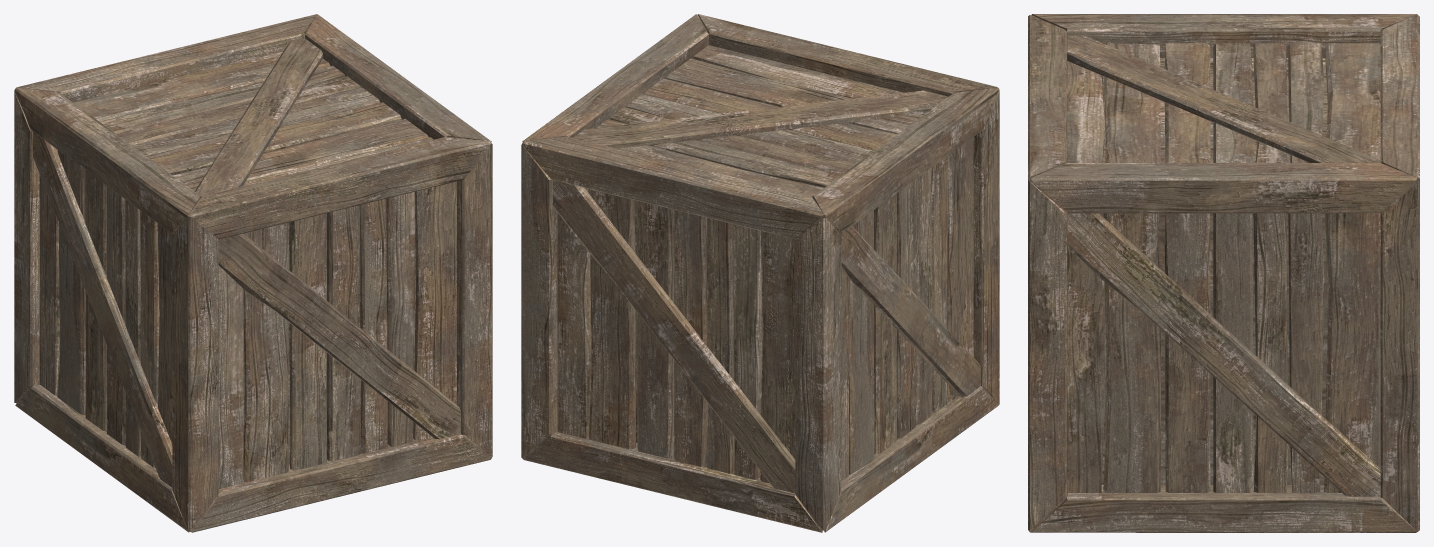
The model's file is SM_Crate_B_01.fbx.
3 renders of one model, left to right at view 1: azimuth 30°, elevation 25°; view 2: azimuth 150°, elevation 25°; view 3: azimuth 270°, elevation 25°, orthographic. The views are drawn at different scales.
Parts seen in each view (by area): view 1: SM_Crate_B_01_LOD0; view 2: SM_Crate_B_01_LOD0; view 3: SM_Crate_B_01_LOD0.
Boxes of the visible parts, <box> form: SM_Crate_B_01_LOD0: <box>14,14,492,532</box>; SM_Crate_B_01_LOD0: <box>521,14,999,532</box>; SM_Crate_B_01_LOD0: <box>1028,14,1419,532</box>.
Bounding box in the file's own units: 60.1 × 60.1 × 60.1.
